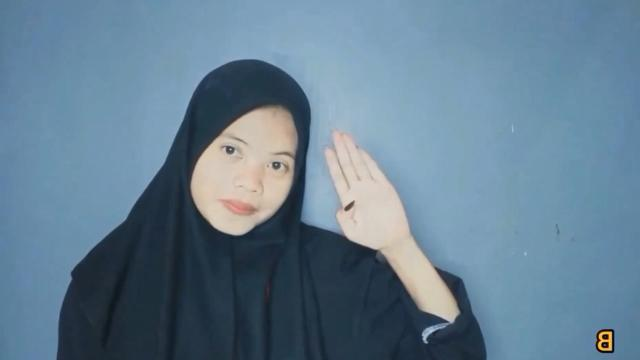B: (324, 130, 408, 252)
